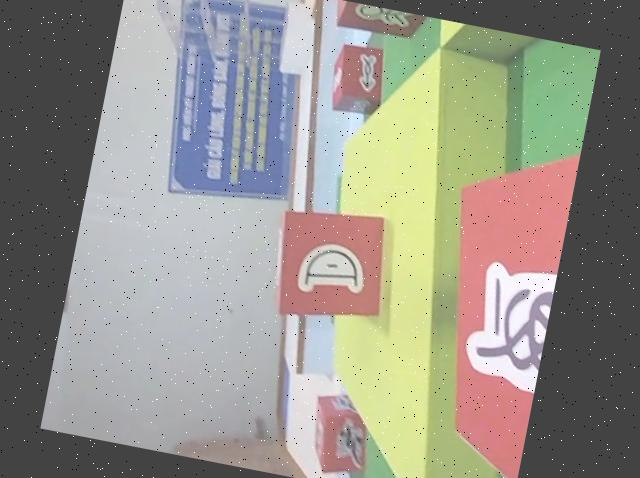R1: (303, 387, 382, 478)
R2 Fake: (395, 108, 584, 478)
R2 Real: (260, 193, 398, 334), (322, 36, 396, 123), (321, 0, 438, 48)
